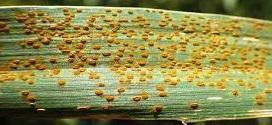Wheat: (87, 13, 182, 113), (183, 18, 231, 89), (0, 12, 49, 71), (51, 10, 86, 78)
